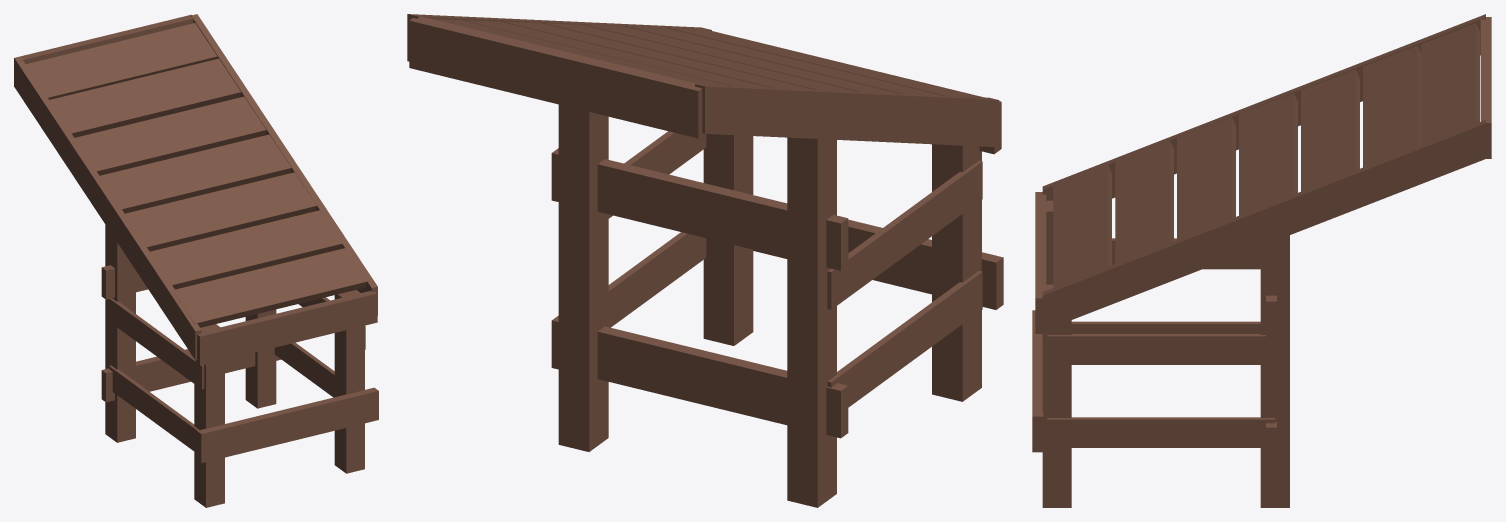
The model's file is base_trilho_up.fbx.
The picture shows the model from 3 angles, left to right: view 1: azimuth 30°, elevation 25°; view 2: azimuth 150°, elevation 25°; view 3: azimuth 270°, elevation 25°; orthographic projection. The views are drawn at different scales.
Parts seen in each view (by area): view 1: base_trilho_up; view 2: base_trilho_up; view 3: base_trilho_up.
Part boxes in pixels (x1,y1,x2,y2): base_trilho_up: [14, 14, 378, 507]; base_trilho_up: [407, 14, 1003, 507]; base_trilho_up: [1032, 14, 1491, 507].
Bounding box in the file's own units: 221 × 369 × 392.
